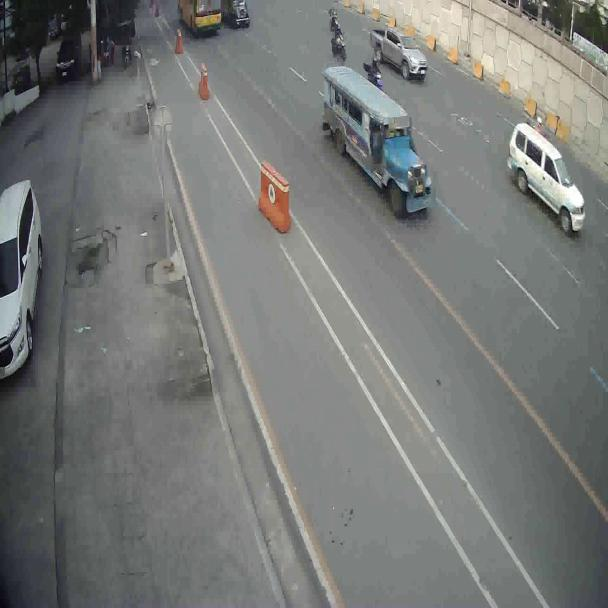vehicle: (320, 63, 432, 211), (507, 121, 589, 237), (0, 168, 40, 393), (378, 27, 430, 81), (178, 1, 221, 38)
